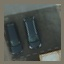car: (4, 20, 18, 54), (26, 16, 40, 50)
